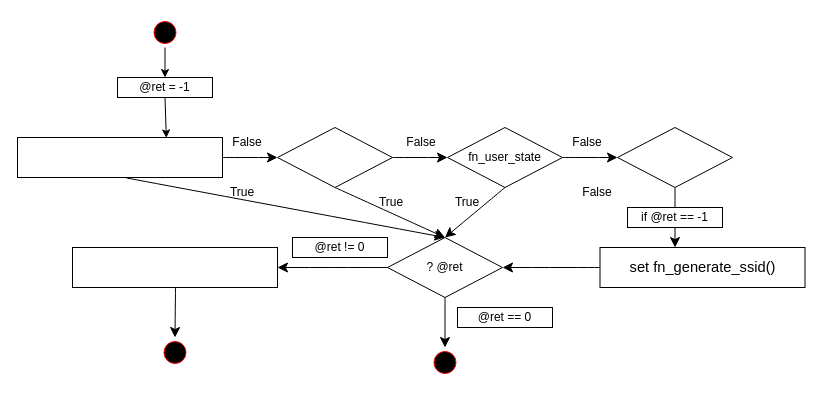
Image size: 823x395. Some labels were removed from this diagram. Here are the shapes that lost their labels. From the top down, the box of each, then its label:
(16, 136, 222, 178): check if user is already logged in
(276, 126, 392, 188): fn_user_exists
(616, 126, 732, 188): fn_pwd_isvalid
(72, 246, 278, 288): create user error message
